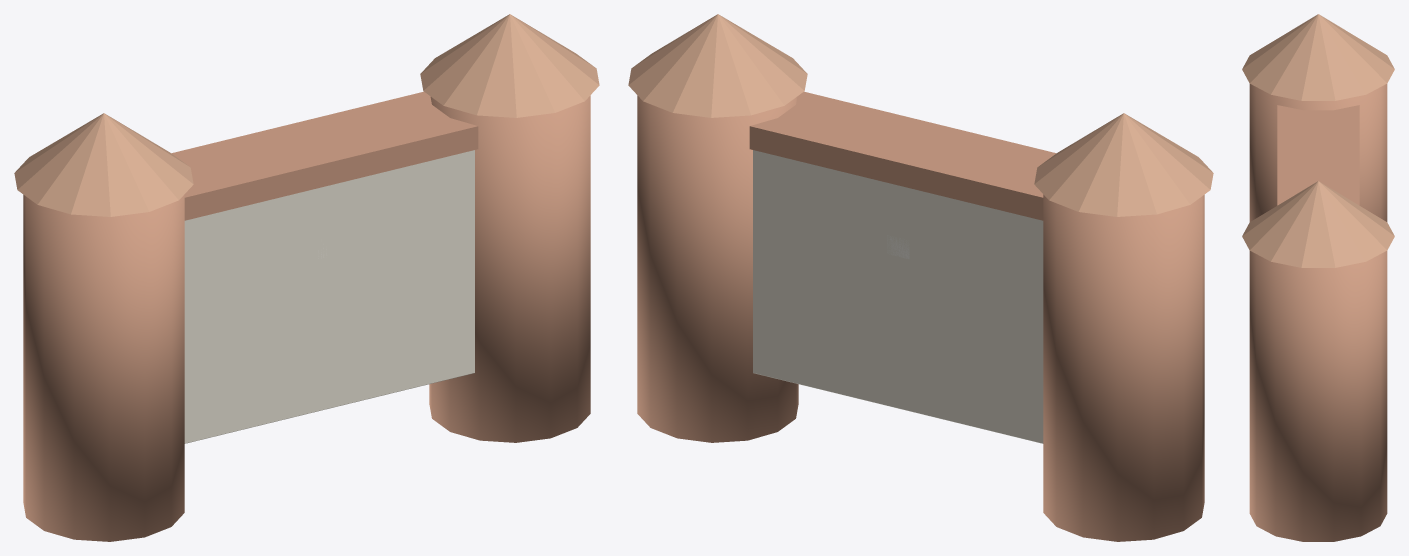
File: city_gate.glb
The picture shows the model from 3 angles, left to right: view 1: azimuth 30°, elevation 25°; view 2: azimuth 150°, elevation 25°; view 3: azimuth 270°, elevation 25°; orthographic projection. The views are drawn at different scales.
Parts seen in each view (by area): view 1: merged_romanBrick, curtain, merged_roofTile; view 2: merged_romanBrick, curtain, merged_roofTile; view 3: merged_romanBrick, merged_roofTile.
Boxes of the visible parts, x1=… form: merged_romanBrick: x1=23, y1=91, x2=590, y2=541; curtain: x1=184, y1=150, x2=474, y2=443; merged_roofTile: x1=14, y1=14, x2=599, y2=216; merged_romanBrick: x1=637, y1=91, x2=1204, y2=541; curtain: x1=753, y1=150, x2=1043, y2=443; merged_roofTile: x1=628, y1=14, x2=1213, y2=216; merged_romanBrick: x1=1249, y1=84, x2=1387, y2=541; merged_roofTile: x1=1242, y1=14, x2=1394, y2=267.
Size of the model in its own units: 35.59 by 24 by 10.
